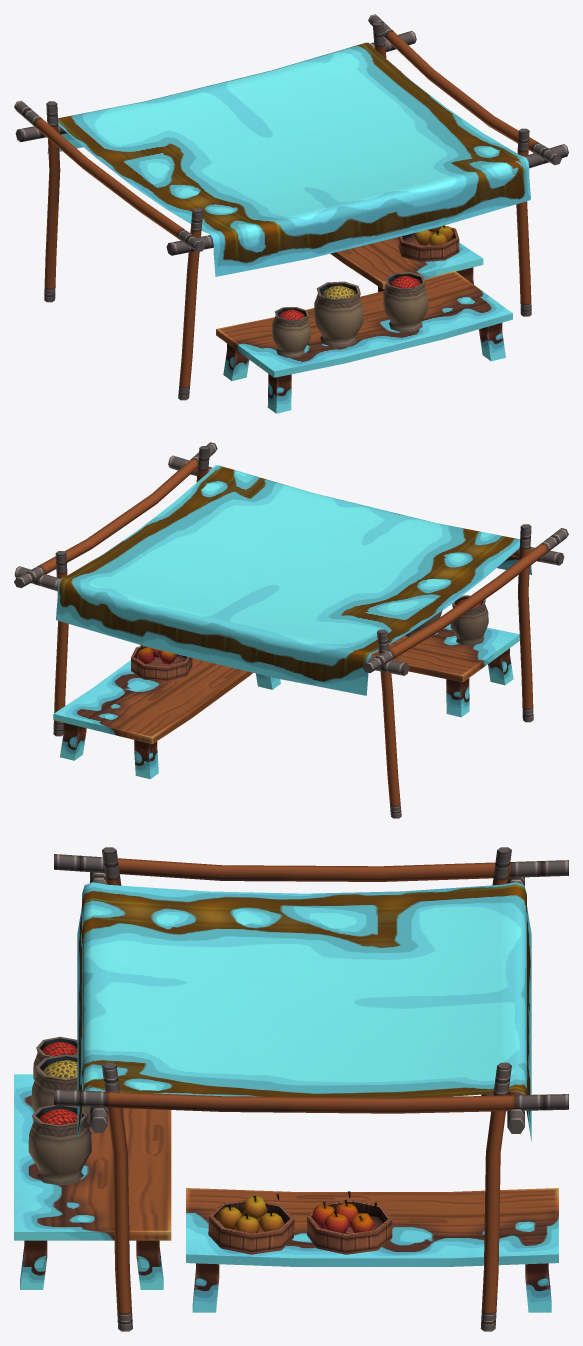
File: Market2.FBX
3 renders of one model, top to bottom at view 1: azimuth 30°, elevation 25°; view 2: azimuth 150°, elevation 25°; view 3: azimuth 270°, elevation 25°, orthographic. The views are drawn at different scales.
Parts seen in each view (by area): view 1: MarketStall2; view 2: MarketStall2; view 3: MarketStall2.
Boxes of the visible parts, x1,y1,x2,y2 form: MarketStall2: [14, 14, 568, 413]; MarketStall2: [14, 442, 568, 818]; MarketStall2: [14, 847, 568, 1331].
Size of the model in its own units: 171 by 78.46 by 153.
